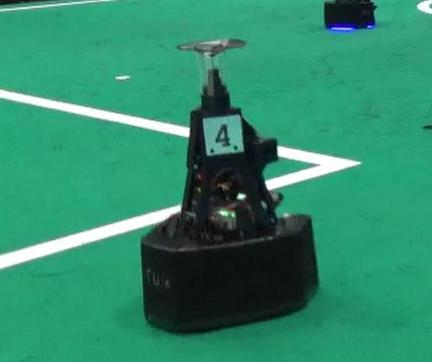robot: (138, 36, 320, 338)
